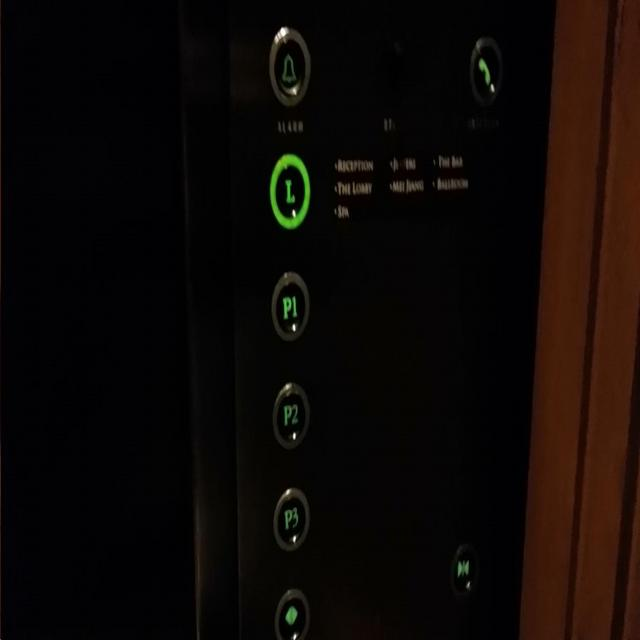L: (267, 153, 312, 230)
P1: (271, 272, 310, 342)
P2: (272, 382, 312, 452)
P3: (274, 486, 311, 552)
alarm: (269, 26, 311, 105)
call: (468, 33, 506, 109)
close: (448, 546, 476, 595)
open: (272, 588, 308, 640)
